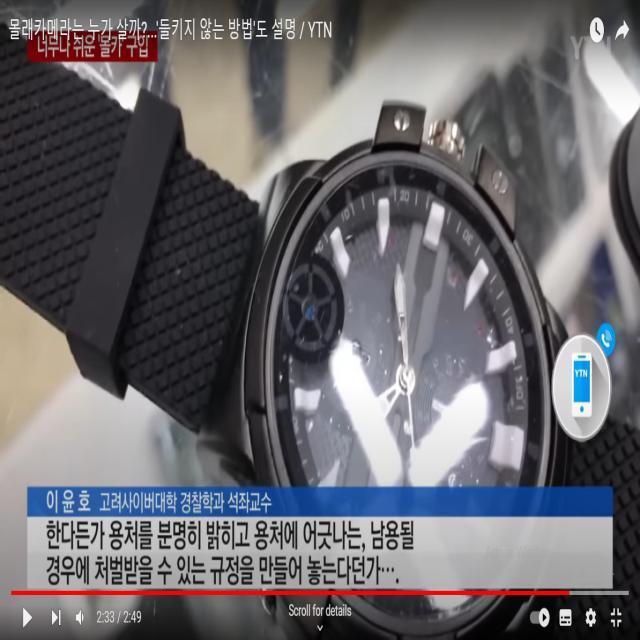hidden camera: (302, 295, 316, 325)
